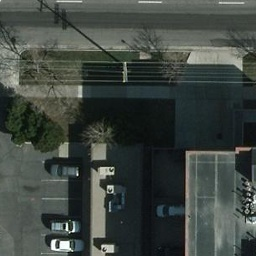car: (49, 157, 85, 180), (156, 203, 189, 220), (51, 219, 86, 234), (53, 239, 84, 254)
